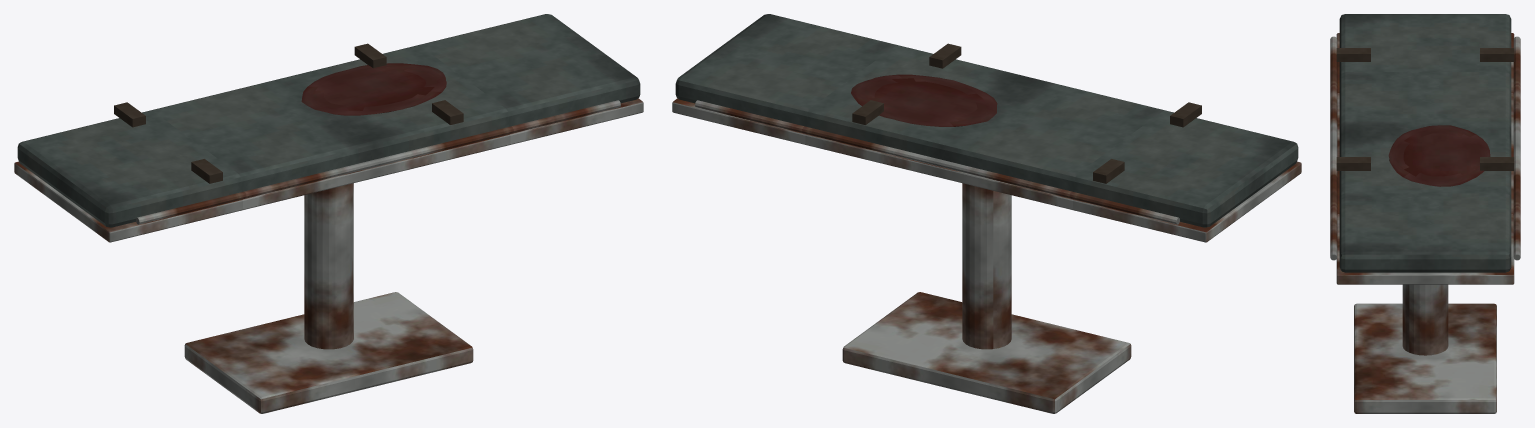
The model's file is H12_OperatingTable.glb.
3 views of the same model, side by side, from view 1: azimuth 30°, elevation 25°; view 2: azimuth 150°, elevation 25°; view 3: azimuth 270°, elevation 25° (orthographic). The views are drawn at different scales.
Parts seen in each view (by area): view 1: H12_OperatingTable; view 2: H12_OperatingTable; view 3: H12_OperatingTable.
Part boxes in pixels (x1,y1,x2,y2): H12_OperatingTable: (14, 14, 643, 413); H12_OperatingTable: (672, 14, 1301, 413); H12_OperatingTable: (1330, 14, 1520, 413).
Size of the model in its own units: 2 by 0.935 by 0.664.
Materials: 4 (4 with a texture image).
